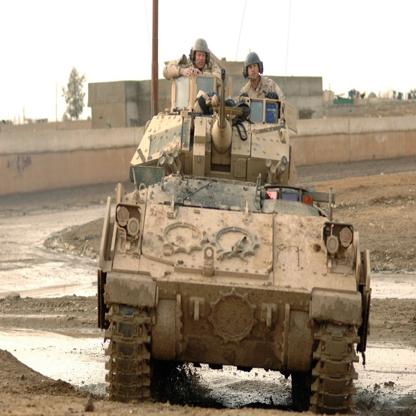Tank: (94, 67, 382, 412)
